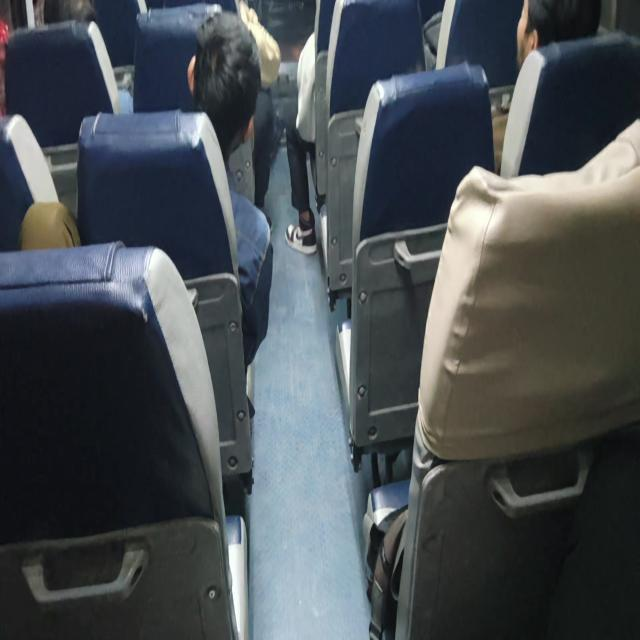person: (18, 11, 274, 368), (186, 10, 274, 372), (284, 0, 383, 255), (491, 0, 602, 174), (284, 30, 318, 255), (515, 0, 602, 73), (18, 200, 81, 251)
